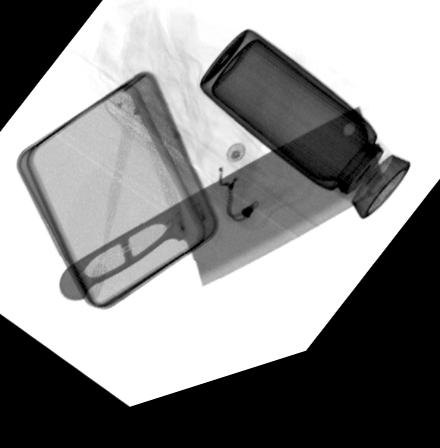Knife: (57, 128, 386, 306)
